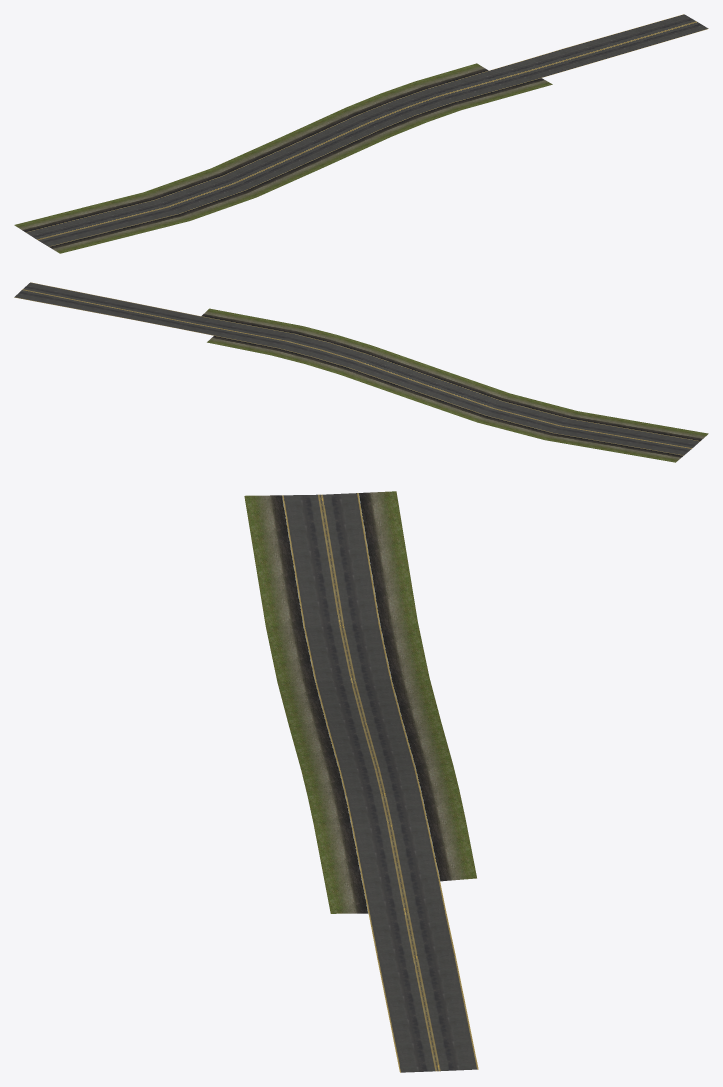
Rendered from cunte_roads56.obj.
3 renders of one model, top to bottom at view 1: azimuth 30°, elevation 25°; view 2: azimuth 150°, elevation 25°; view 3: azimuth 270°, elevation 25°, orthographic. The views are drawn at different scales.
Visible parts, largest first — view 1: cunte_roads56; view 2: cunte_roads56; view 3: cunte_roads56.
Boxes of the visible parts, x1,y1,x2,y2 form: cunte_roads56: (14, 14, 708, 253); cunte_roads56: (14, 282, 708, 462); cunte_roads56: (244, 491, 478, 1072).
Size of the model in its own units: 195 by 8.74 by 30.72.
Materials: 2 (2 with a texture image).
